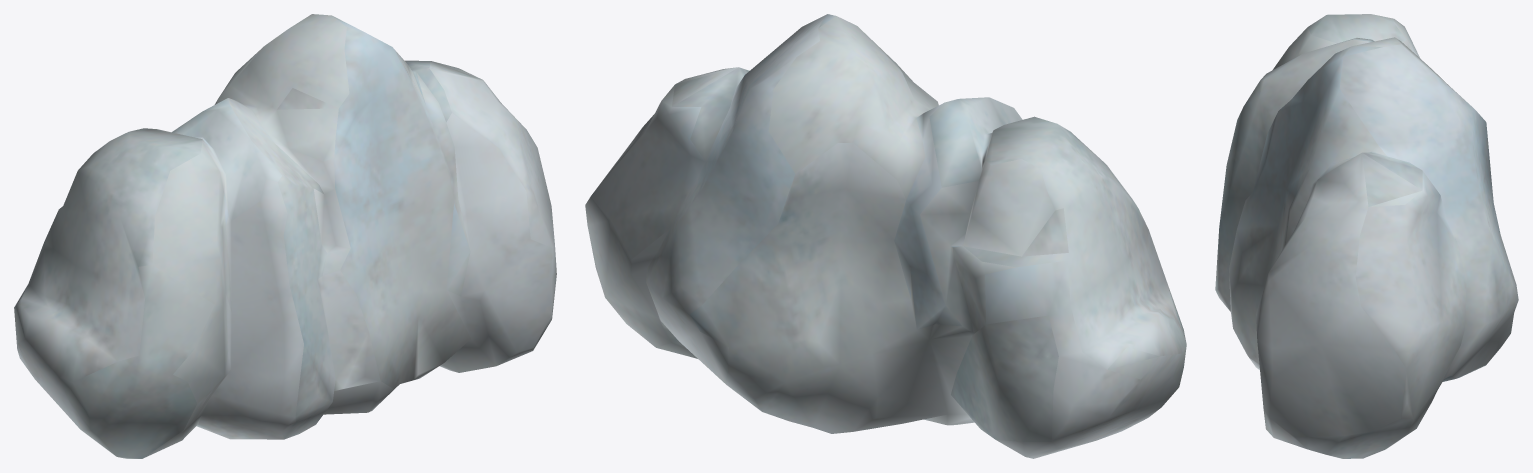
Rendered from P_BoulderClumpClassic1.obj.
3 renders of one model, left to right at view 1: azimuth 30°, elevation 25°; view 2: azimuth 150°, elevation 25°; view 3: azimuth 270°, elevation 25°, orthographic. The views are drawn at different scales.
Bounding box in the file's own units: 25.98 × 17.7 × 13.35.
